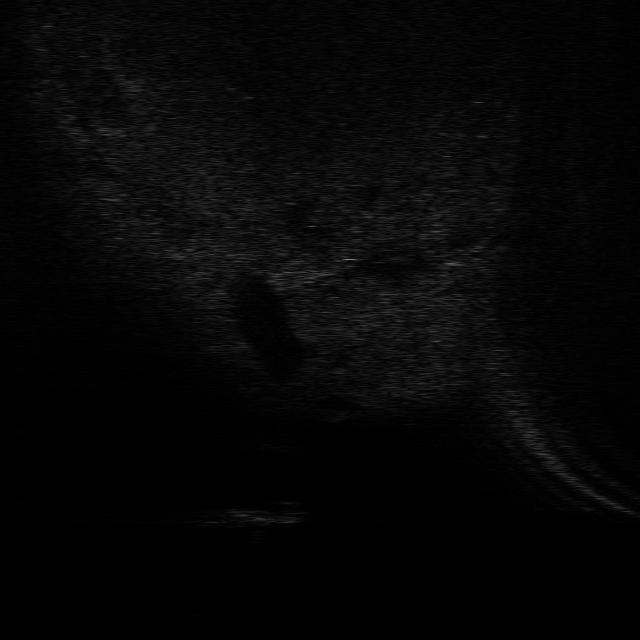cube: (202, 500, 302, 529)
